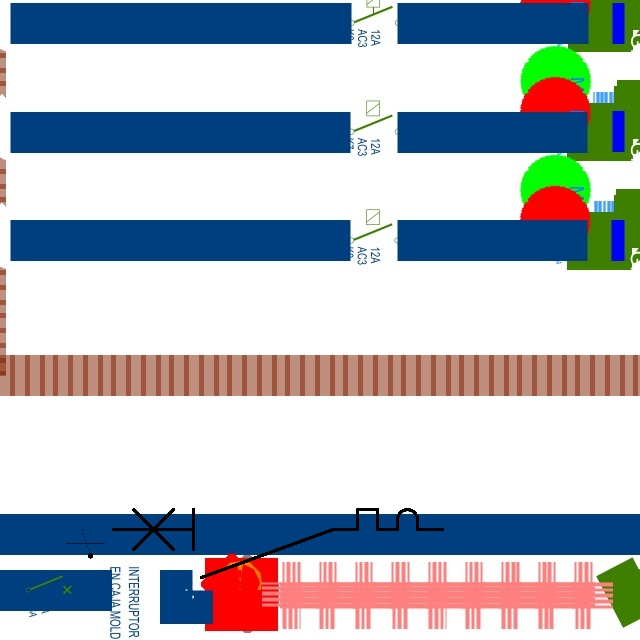interruptor_termomagnetico: (105, 501, 451, 585)
